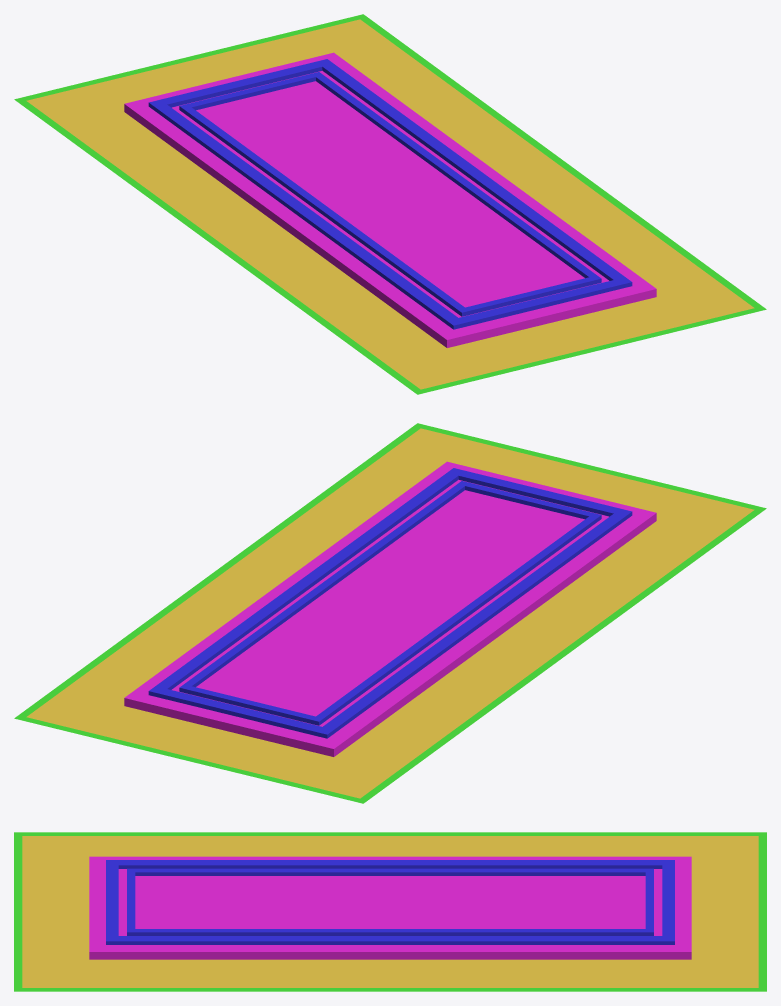
File: Floor_013_F_04.fbx
The picture shows the model from 3 angles, top to bottom: view 1: azimuth 30°, elevation 25°; view 2: azimuth 150°, elevation 25°; view 3: azimuth 270°, elevation 25°; orthographic projection. The views are drawn at different scales.
Parts seen in each view (by area): view 1: Floor_013_F_04; view 2: Floor_013_F_04; view 3: Floor_013_F_04.
Boxes of the visible parts, <box> form: Floor_013_F_04: <box>14,14,766,394</box>; Floor_013_F_04: <box>14,423,766,803</box>; Floor_013_F_04: <box>14,832,766,991</box>.
Size of the model in its own units: 114 by 3.81 by 229.
